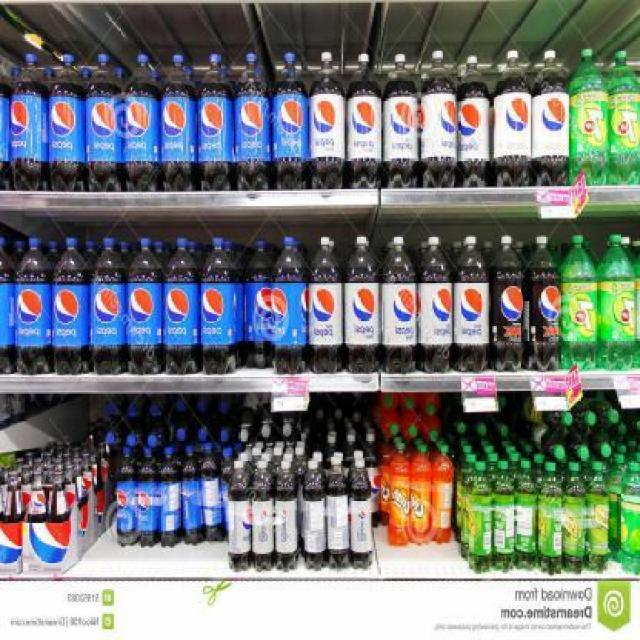Drinks: (85, 53, 123, 191), (493, 51, 531, 188), (532, 50, 570, 187), (9, 54, 47, 191), (419, 49, 456, 189), (569, 49, 607, 185), (52, 237, 89, 375), (125, 238, 162, 376), (163, 237, 200, 375), (381, 236, 418, 374), (598, 233, 635, 371), (48, 53, 85, 191), (123, 52, 160, 190), (233, 52, 270, 190), (15, 237, 52, 374), (89, 239, 126, 376), (272, 236, 309, 373), (524, 236, 561, 373), (560, 234, 597, 371), (161, 55, 198, 192), (270, 53, 307, 190), (383, 54, 420, 190), (308, 52, 344, 190), (345, 235, 381, 373), (198, 53, 234, 191), (200, 238, 236, 375), (307, 237, 343, 374), (418, 236, 454, 373), (453, 236, 489, 373), (488, 235, 524, 372), (346, 53, 382, 189), (455, 55, 491, 189), (608, 48, 639, 185), (243, 240, 272, 369), (325, 455, 349, 569), (349, 456, 373, 570), (229, 458, 252, 572), (252, 459, 275, 571), (274, 458, 297, 570), (303, 459, 326, 571), (203, 442, 226, 542), (180, 445, 203, 545), (158, 446, 180, 549), (115, 445, 137, 548), (136, 447, 158, 547)
